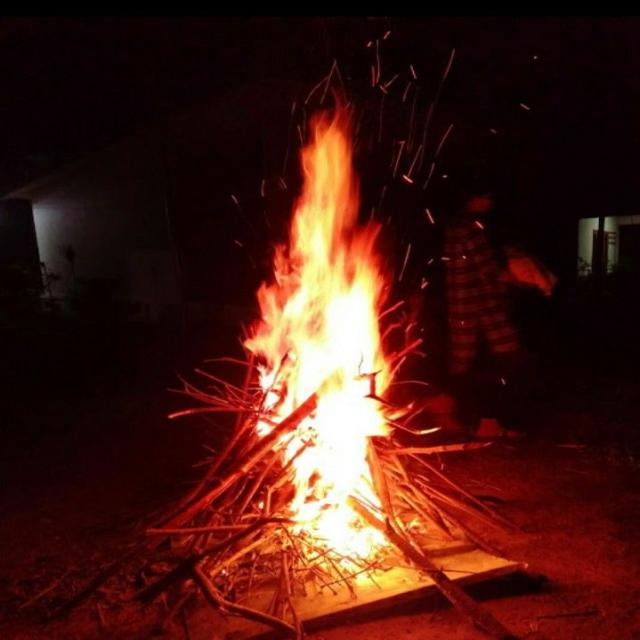fire: (249, 103, 397, 564)
